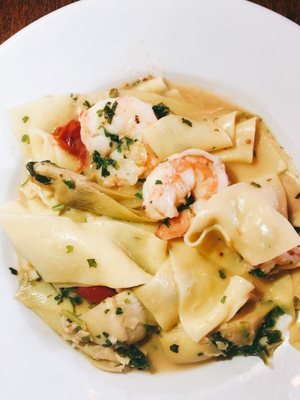sandwich: (1, 6, 300, 396)
